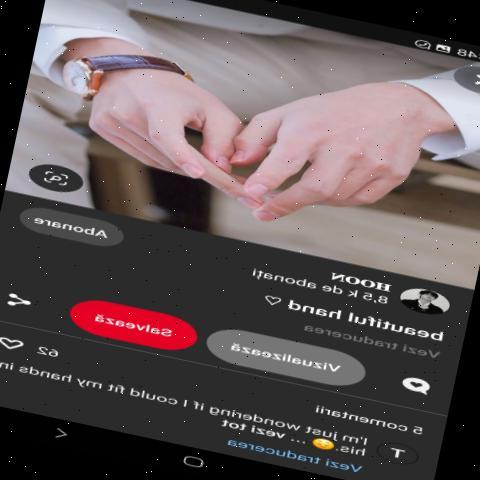Hands: (234, 77, 452, 234), (61, 75, 242, 200)
